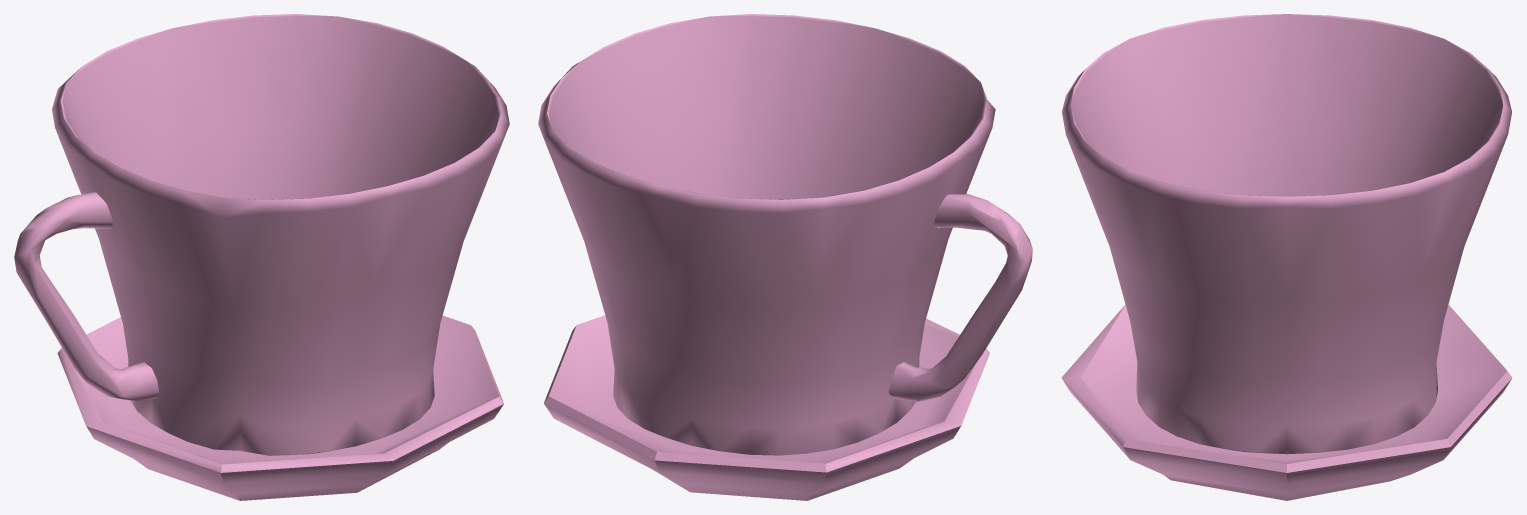
File: tazzina_rosa_LOD2.fbx
3 views of the same model, side by side, from view 1: azimuth 30°, elevation 25°; view 2: azimuth 150°, elevation 25°; view 3: azimuth 270°, elevation 25° (orthographic).
Visible parts, largest first — view 1: Cube_010; view 2: Cube_010; view 3: Cube_010.
Boxes of the visible parts, <box> form: Cube_010: <box>14,14,509,500</box>; Cube_010: <box>538,14,1032,500</box>; Cube_010: <box>1061,14,1512,500</box>.
Size of the model in its own units: 30.02 by 20.71 by 25.48.
